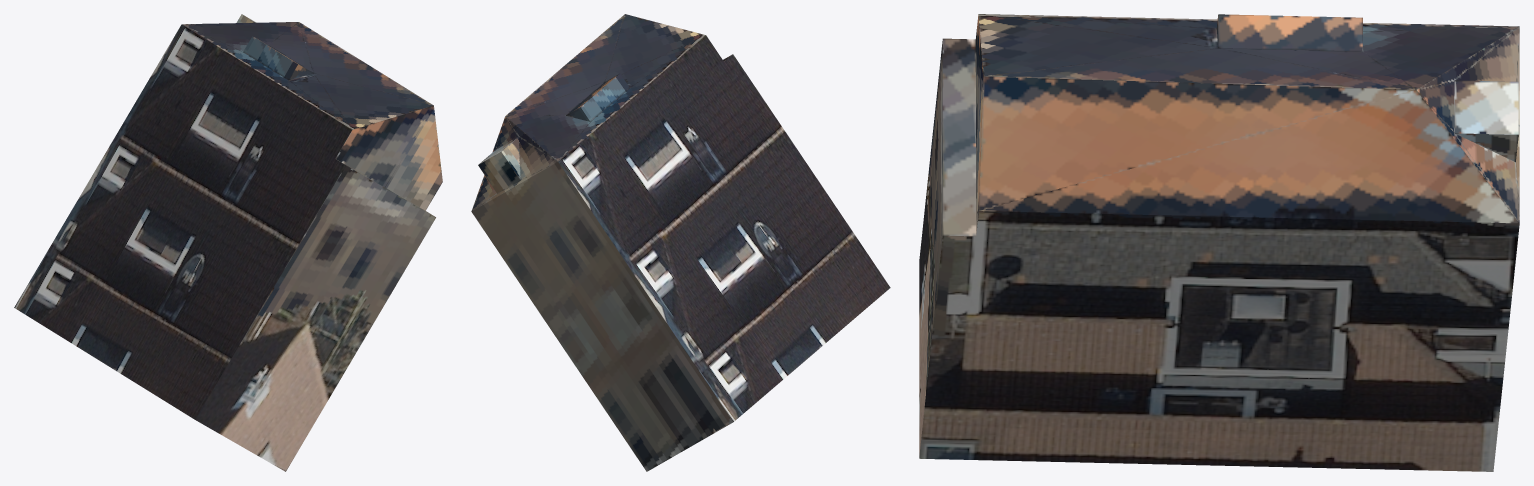
The picture shows the model from 3 angles, left to right: view 1: azimuth 30°, elevation 25°; view 2: azimuth 150°, elevation 25°; view 3: azimuth 270°, elevation 25°; orthographic projection. The views are drawn at different scales.
Visible parts, largest first — view 1: BAG_0599100000688699 (×6); view 2: BAG_0599100000688699 (×6); view 3: BAG_0599100000688699 (×6).
Part boxes in pixels (x1,y1,x2,y2): BAG_0599100000688699 (×6): [14, 14, 442, 471]; BAG_0599100000688699 (×6): [471, 14, 890, 471]; BAG_0599100000688699 (×6): [919, 14, 1519, 471].
Bounding box in the file's own units: 10.94 × 12.55 × 12.47.
Materials: 6 (6 with a texture image).
